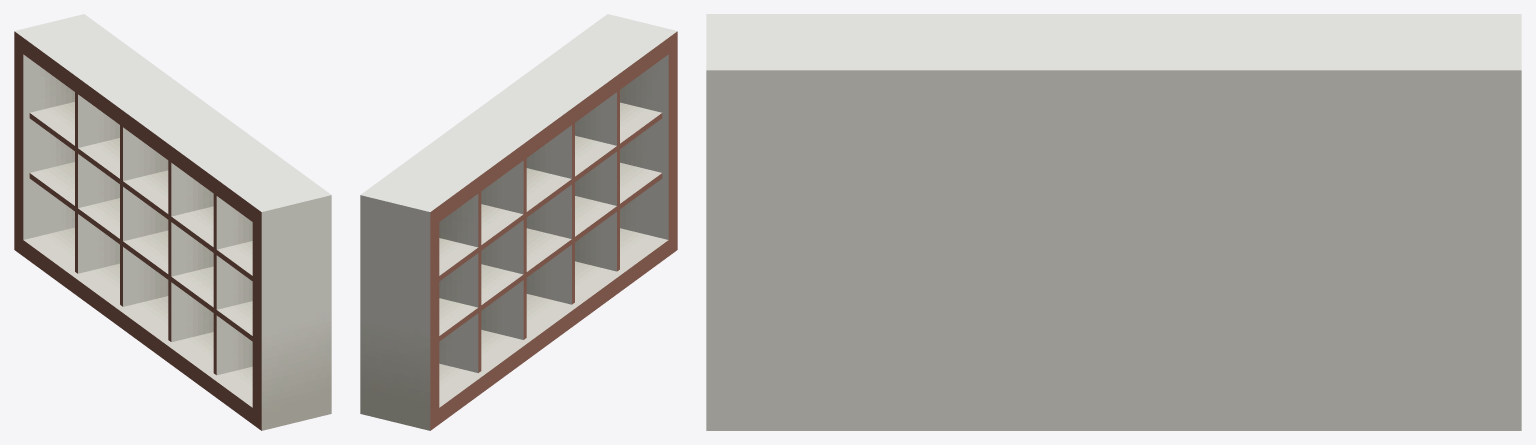
The model's file is Mail Sorting Area.gltf.
The picture shows the model from 3 angles, left to right: view 1: azimuth 30°, elevation 25°; view 2: azimuth 150°, elevation 25°; view 3: azimuth 270°, elevation 25°; orthographic projection. The views are drawn at different scales.
Visible parts, largest first — view 1: cube (×10); view 2: cube (×10); view 3: cube (×5).
Part boxes in pixels (x1,y1,x2,y2): cube (×10): [14, 14, 331, 430]; cube (×10): [360, 14, 677, 430]; cube (×5): [706, 14, 1521, 430].
Bounding box in the file's own units: 0.2096 × 0.6252 × 1.28.
1 material, 1 textured.
